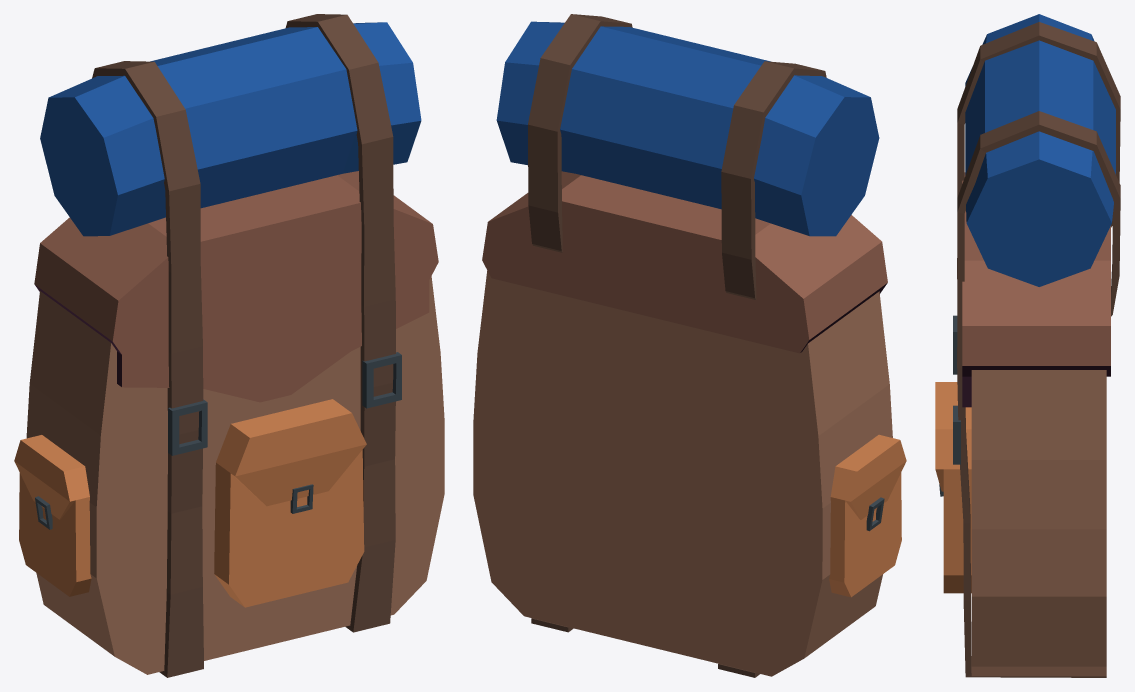
File: Backpack.fbx
The picture shows the model from 3 angles, left to right: view 1: azimuth 30°, elevation 25°; view 2: azimuth 150°, elevation 25°; view 3: azimuth 270°, elevation 25°; orthographic projection. The views are drawn at different scales.
Visible parts, largest first — view 1: Backpack; view 2: Backpack; view 3: Backpack.
Part boxes in pixels (left/top/right/bottom): Backpack: left=14, top=14, right=444, bottom=677; Backpack: left=473, top=14, right=906, bottom=677; Backpack: left=935, top=14, right=1120, bottom=677.
Bounding box in the file's own units: 94.44 × 143 × 43.41.
